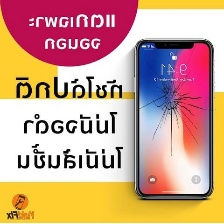phone: (129, 37, 216, 203)
